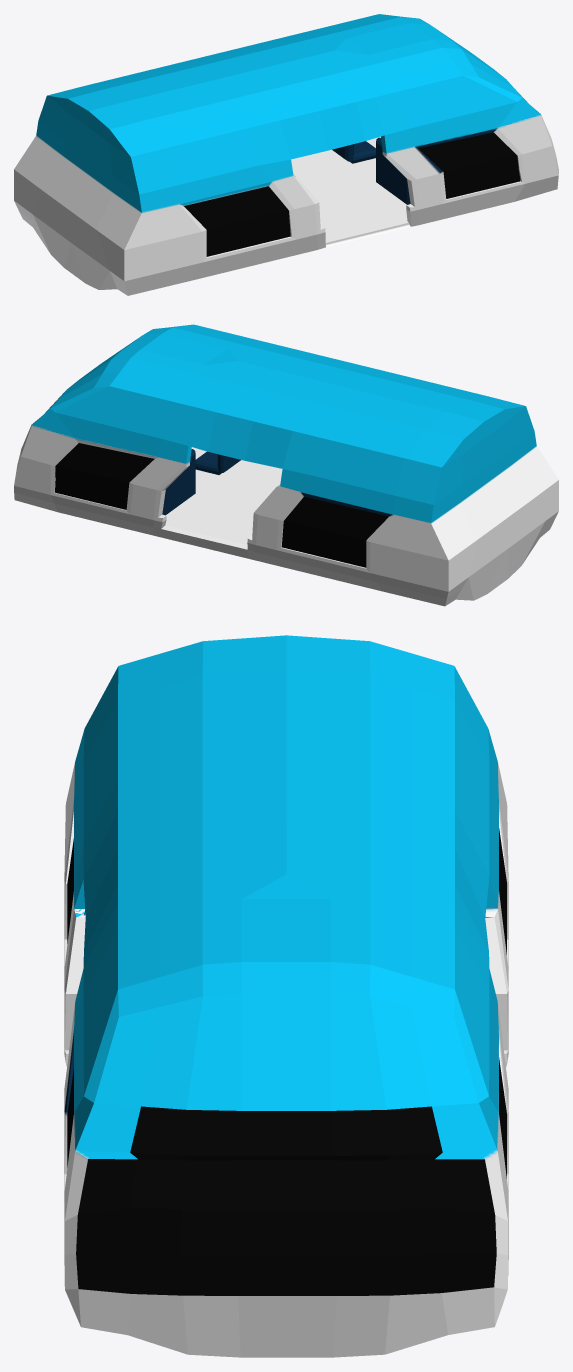
The model's file is train.fbx.
3 renders of one model, top to bottom at view 1: azimuth 30°, elevation 25°; view 2: azimuth 150°, elevation 25°; view 3: azimuth 270°, elevation 25°, orthographic. The views are drawn at different scales.
Visible parts, largest first — view 1: city__FNL_V1001_1:pasted__scifi_bus_pPlane5; view 2: city__FNL_V1001_1:pasted__scifi_bus_pPlane5; view 3: city__FNL_V1001_1:pasted__scifi_bus_pPlane5.
Part boxes in pixels (left/top/right/bottom): city__FNL_V1001_1:pasted__scifi_bus_pPlane5: left=14, top=14, right=558, bottom=295; city__FNL_V1001_1:pasted__scifi_bus_pPlane5: left=14, top=324, right=558, bottom=606; city__FNL_V1001_1:pasted__scifi_bus_pPlane5: left=64, top=635, right=508, bottom=1357.
Size of the model in its own units: 1416 by 497 by 616.
2 materials, 1 textured.
